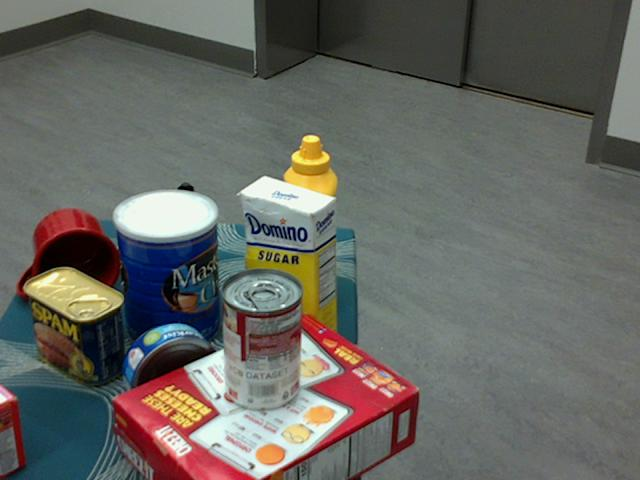cracker_box: (113, 314, 420, 479)
gelatin_box: (0, 382, 26, 475)
large_marker: (177, 182, 197, 278)
master_chef_can: (112, 189, 219, 355)
mug: (19, 208, 120, 305)
mustard_bottle: (281, 134, 335, 312)
potted_meat_can: (23, 265, 125, 385)
sugar_box: (240, 175, 336, 363)
tomato_soup_can: (219, 269, 301, 412)
tuna_fish_can: (122, 323, 220, 419)
